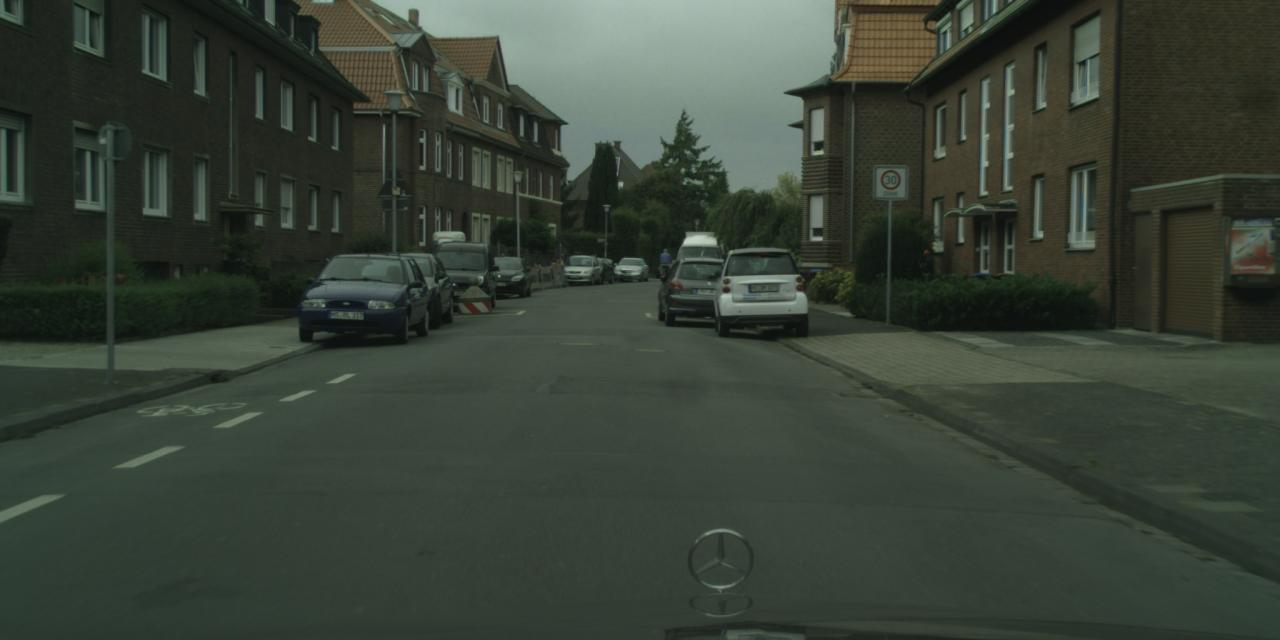ped: (659, 248, 670, 278)
